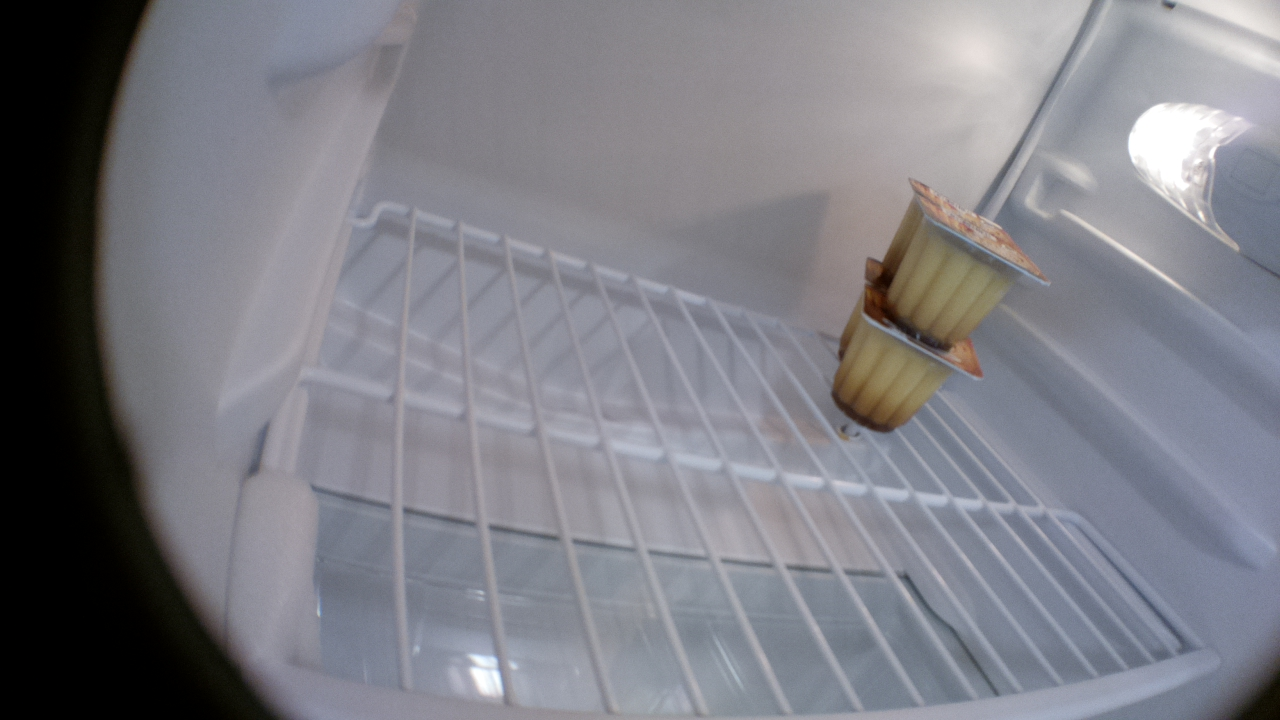caramel: (881, 193, 1053, 350), (829, 278, 983, 434), (878, 177, 1013, 294)
